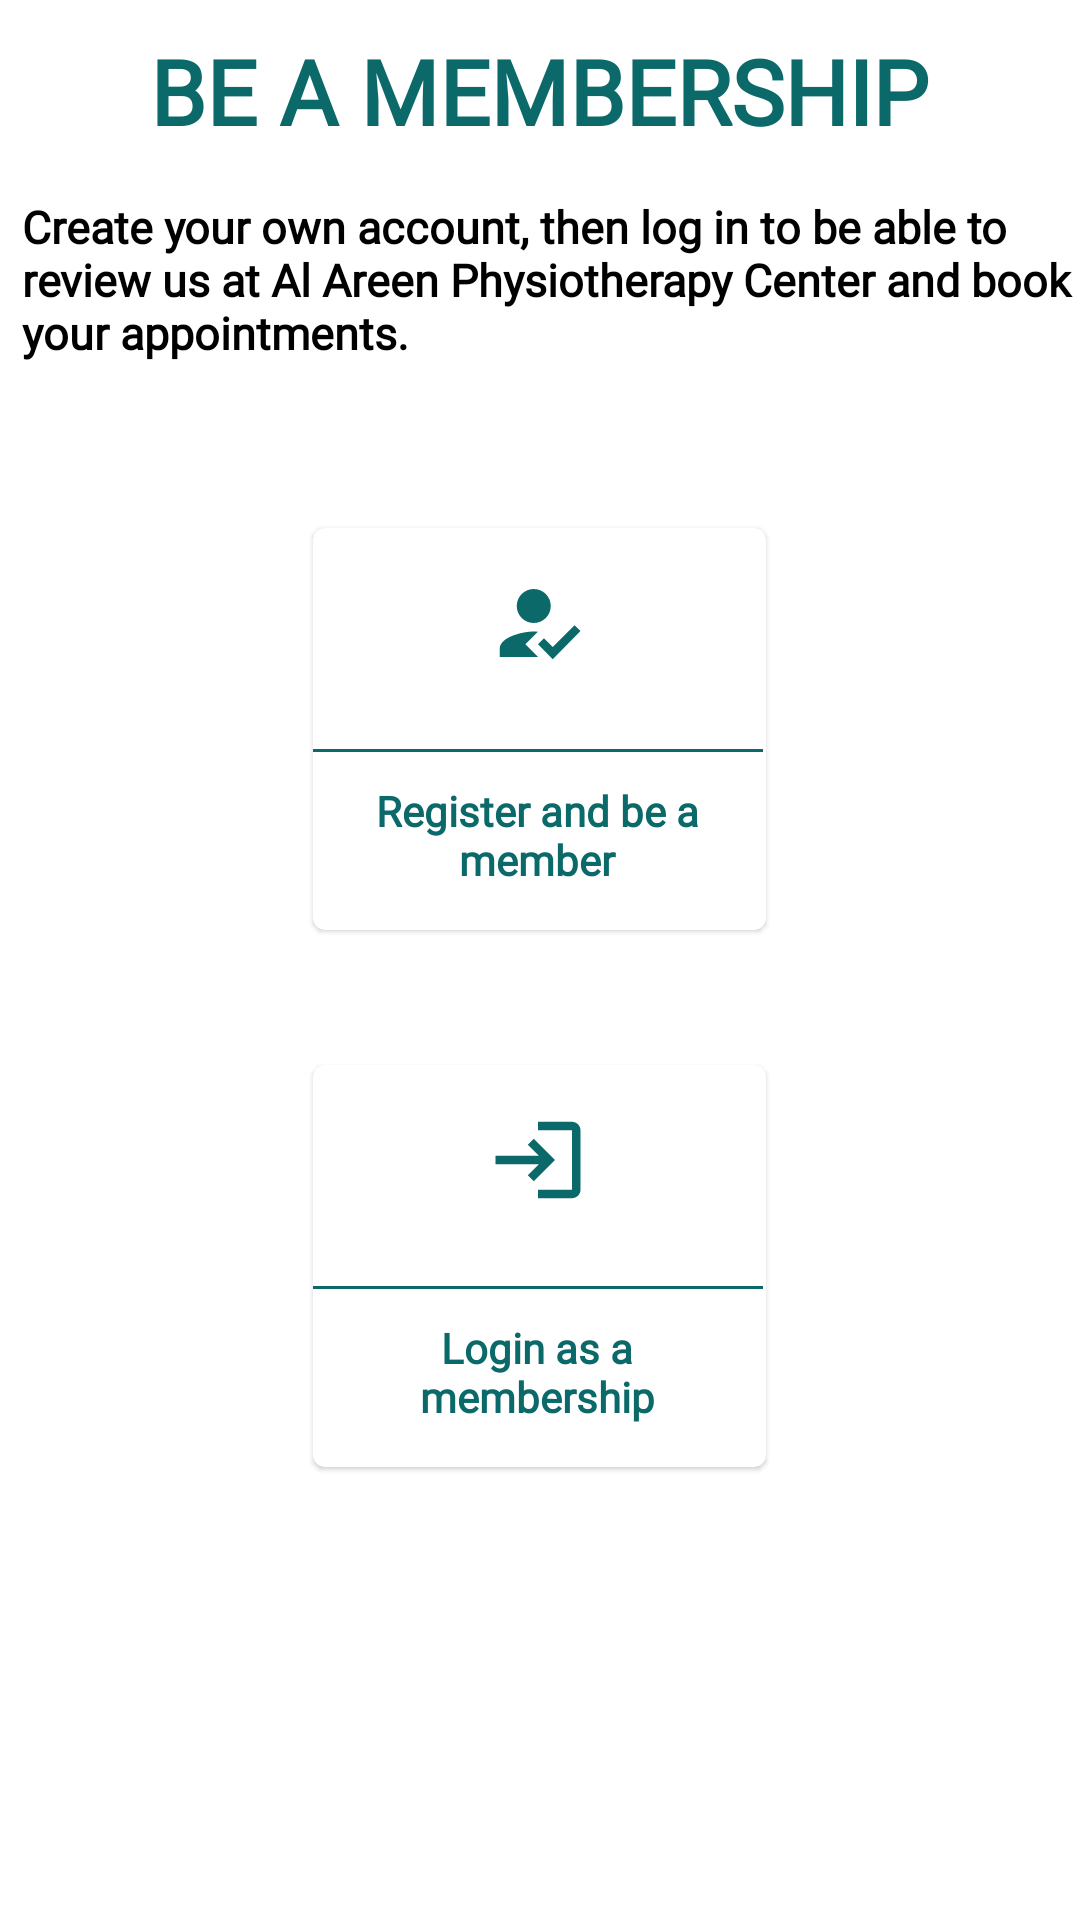

Icon bounding boxes for this 1080*1920 phone screenshot, format (x1, y1, x2, y2):
how to reg: (499, 589, 581, 659)
